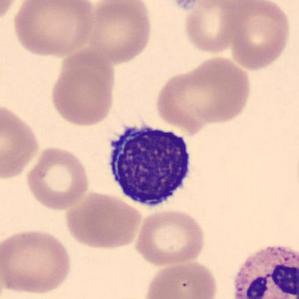Eosinophil: (225, 238, 299, 299)
Lymphocyte: (100, 116, 197, 211)
Platelets: (172, 0, 199, 12)
RBC: (154, 54, 254, 128), (0, 226, 74, 296), (9, 0, 95, 58), (62, 189, 143, 250), (48, 58, 117, 128), (224, 0, 292, 71), (23, 144, 91, 212), (132, 207, 208, 267), (86, 0, 154, 65), (180, 0, 248, 55), (0, 100, 42, 181), (141, 258, 220, 299), (0, 0, 21, 28)
